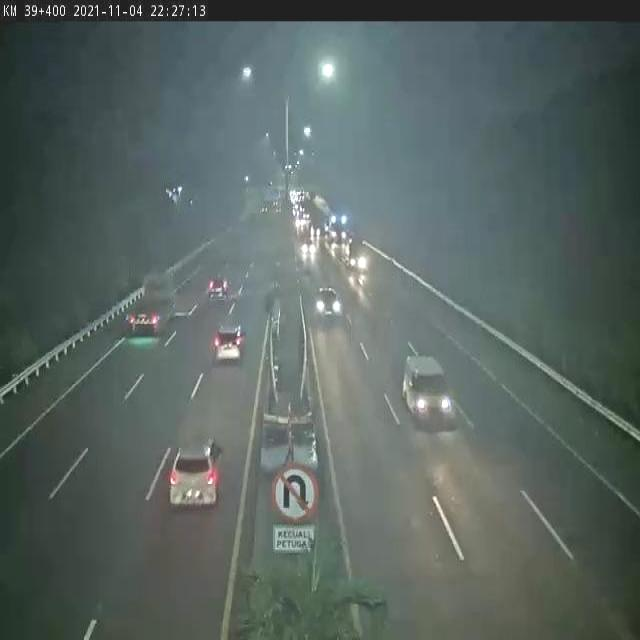Car: (162, 418, 239, 521), (401, 357, 460, 433), (211, 315, 251, 364), (201, 267, 237, 311), (309, 282, 346, 322), (346, 246, 373, 278)
Truck: (120, 265, 180, 351)
